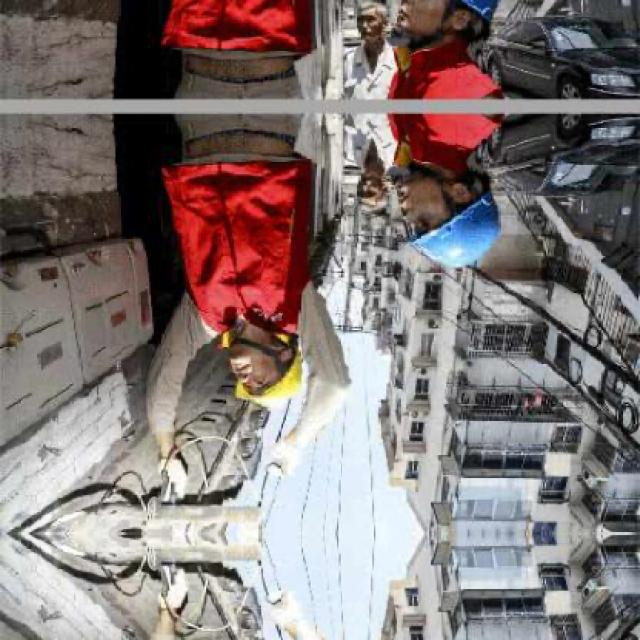con casco: (383, 170, 538, 266), (164, 314, 304, 418)
sin casco: (312, 162, 395, 221)
